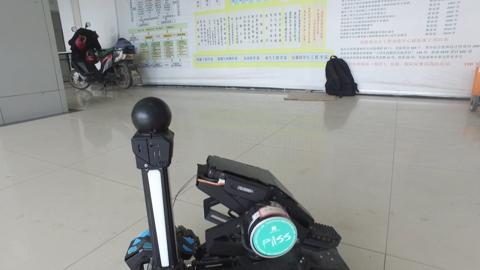bag: (311, 47, 365, 108)
chariot: (114, 114, 357, 268)
